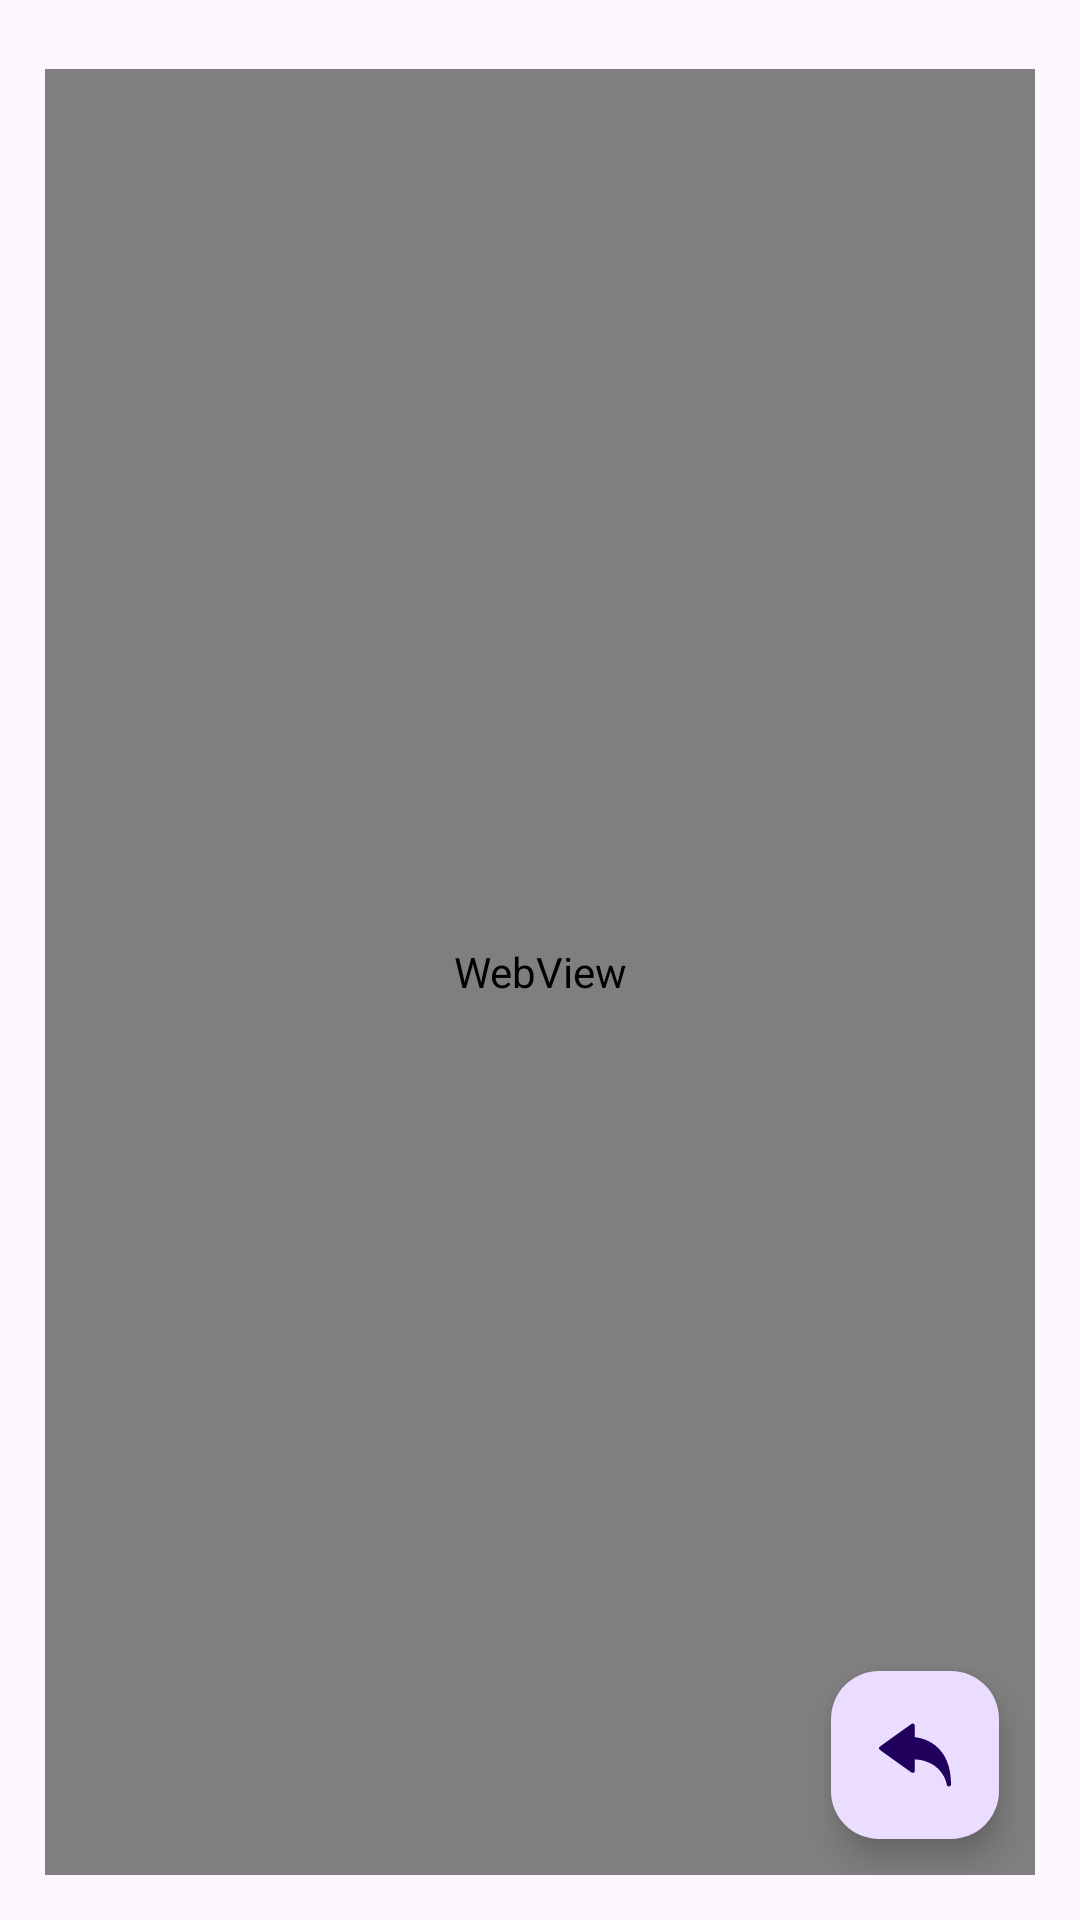

Screen size 1080w x 1920h. Icon name, then its center in pixels as point (x, y):
volver: point (915, 1755)
